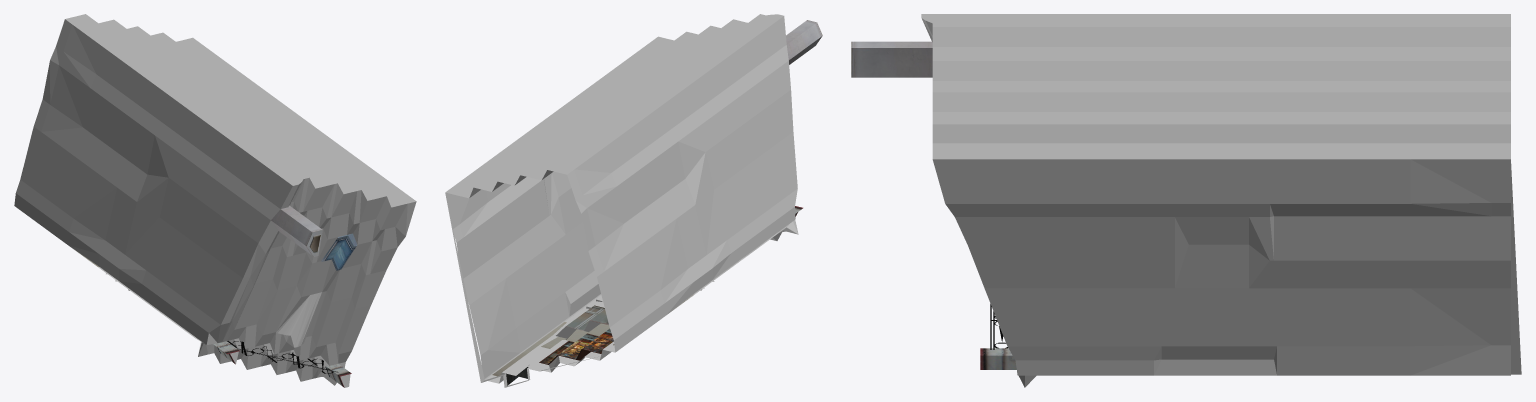
The model's file is Vanaturu_kael_5-origo.obj.
The picture shows the model from 3 angles, left to right: view 1: azimuth 30°, elevation 25°; view 2: azimuth 150°, elevation 25°; view 3: azimuth 270°, elevation 25°; orthographic projection. The views are drawn at different scales.
Parts seen in each view (by area): view 1: vanaturukael_Cube.001; view 2: vanaturukael_Cube.001; view 3: vanaturukael_Cube.001.
Boxes of the visible parts, left/top/right/bottom form: vanaturukael_Cube.001: left=14, top=14, right=416, bottom=387; vanaturukael_Cube.001: left=445, top=14, right=822, bottom=387; vanaturukael_Cube.001: left=851, top=14, right=1521, bottom=387.
Size of the model in its own units: 7.69 by 10 by 18.85.
